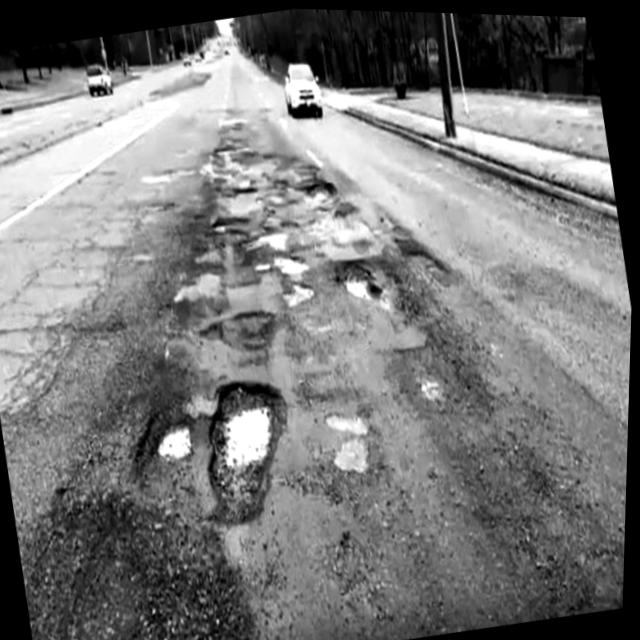pathole: (124, 101, 454, 533)
